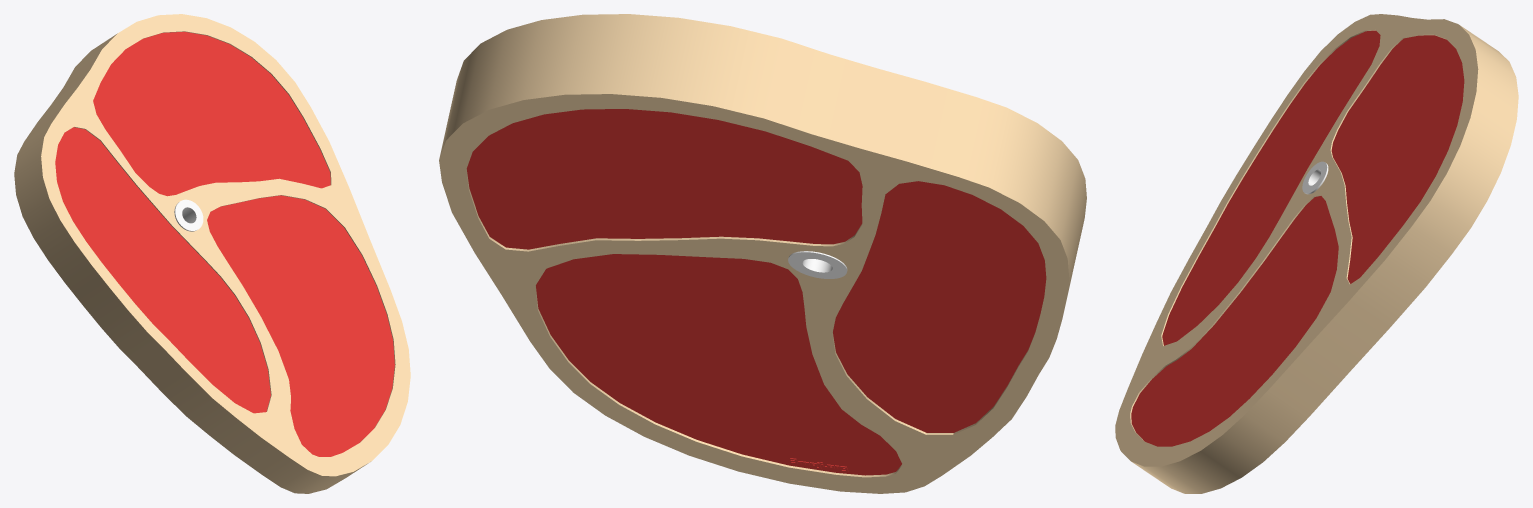
Rendered from cut_of_meat.glb.
The picture shows the model from 3 angles, left to right: view 1: azimuth 30°, elevation 25°; view 2: azimuth 150°, elevation 25°; view 3: azimuth 270°, elevation 25°; orthographic projection. The views are drawn at different scales.
Visible parts, largest first — view 1: Circle.2206; view 2: Circle.2206; view 3: Circle.2206.
Boxes of the visible parts, x1,y1,x2,y2 form: Circle.2206: (14, 14, 410, 493); Circle.2206: (439, 14, 1086, 493); Circle.2206: (1115, 14, 1518, 493).
Bounding box in the file's own units: 1.97 × 2.18 × 1.92.
Materials: 1 (1 with a texture image).
